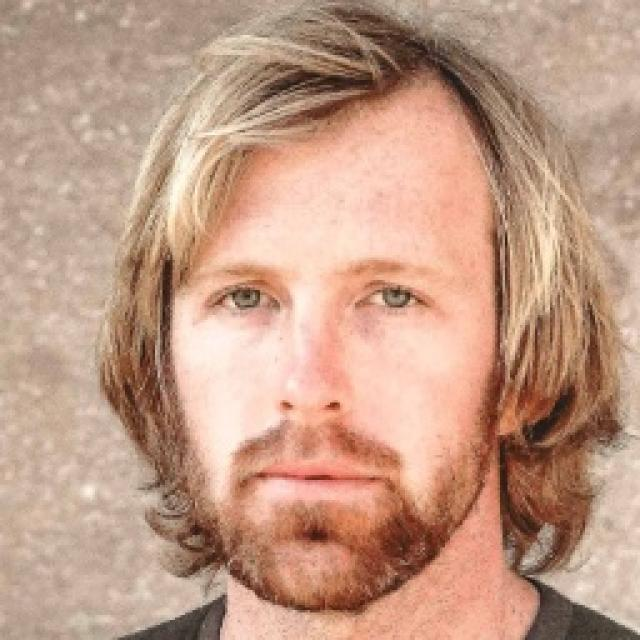no-glasses: (177, 265, 463, 343)
